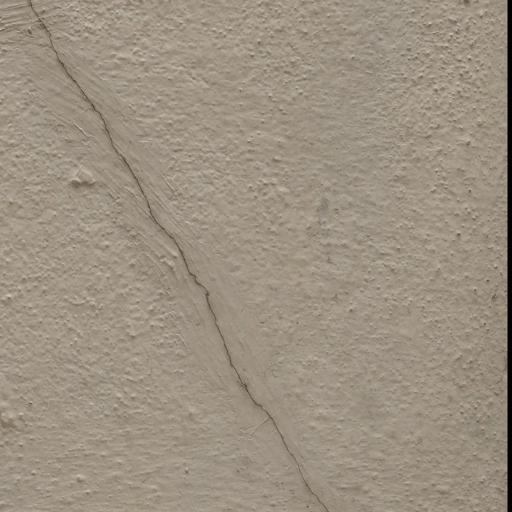minor_crack: (24, 2, 340, 512)
